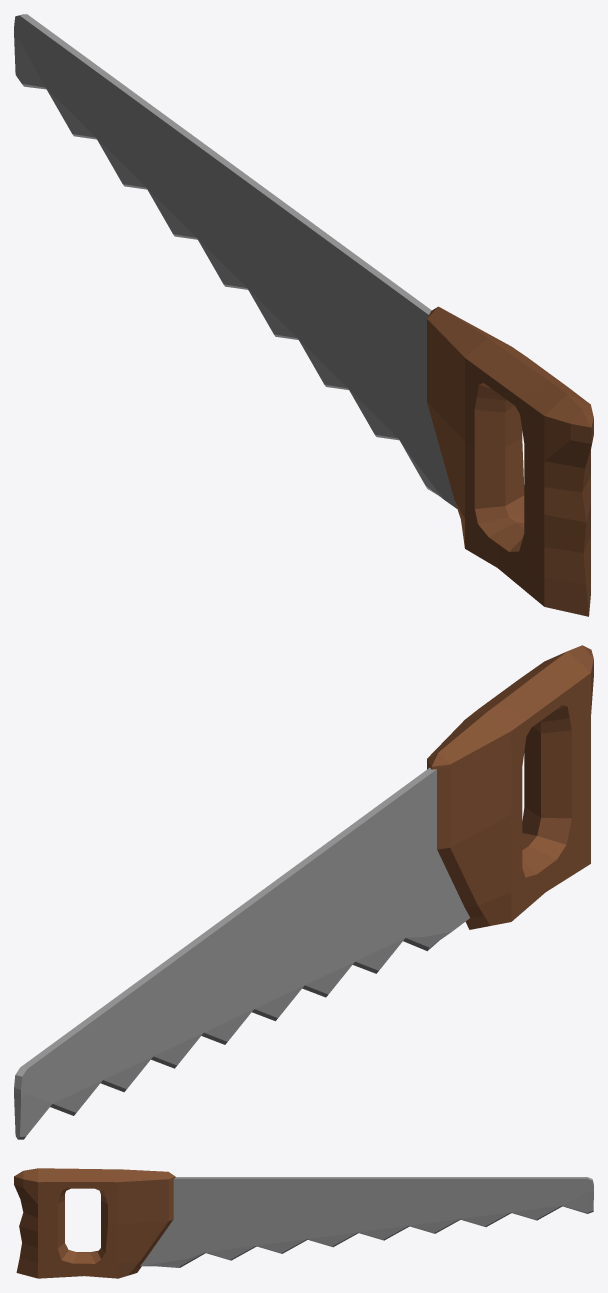
File: handsaw01.gltf
3 views of the same model, one above another, from view 1: azimuth 30°, elevation 25°; view 2: azimuth 150°, elevation 25°; view 3: azimuth 270°, elevation 25° (orthographic). The views are drawn at different scales.
Parts seen in each view (by area): view 1: Cylinder.001; view 2: Cylinder.001; view 3: Cylinder.001.
Boxes of the visible parts, x1,y1,x2,y2 form: Cylinder.001: (14, 14, 593, 616); Cylinder.001: (14, 645, 593, 1139); Cylinder.001: (14, 1168, 593, 1278).
Bounding box in the file's own units: 0.036 × 0.1517 × 0.7396.
Materials: 1 (1 with a texture image).
